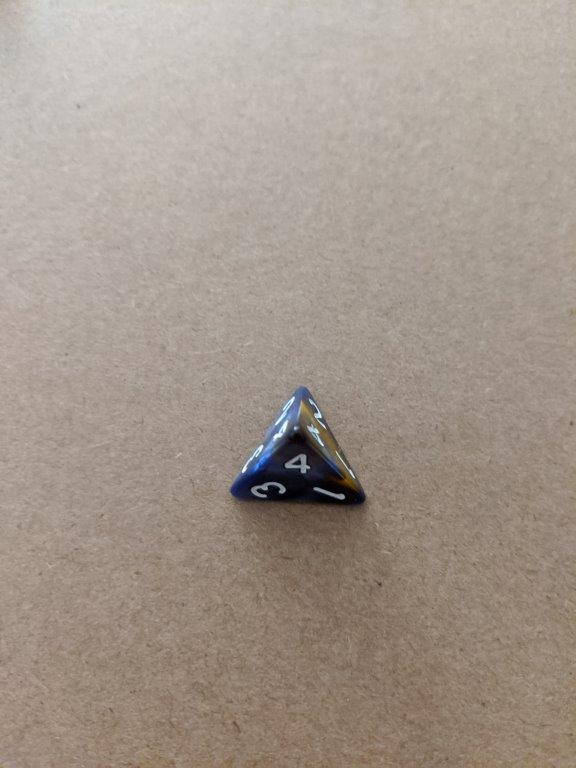d4-4: (226, 384, 366, 510)
